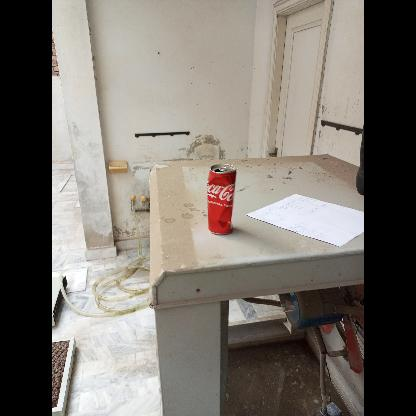Dent_Can: (207, 175, 234, 228)
Lid_Open: (214, 162, 230, 172)
Tin_Can: (206, 162, 238, 236)
